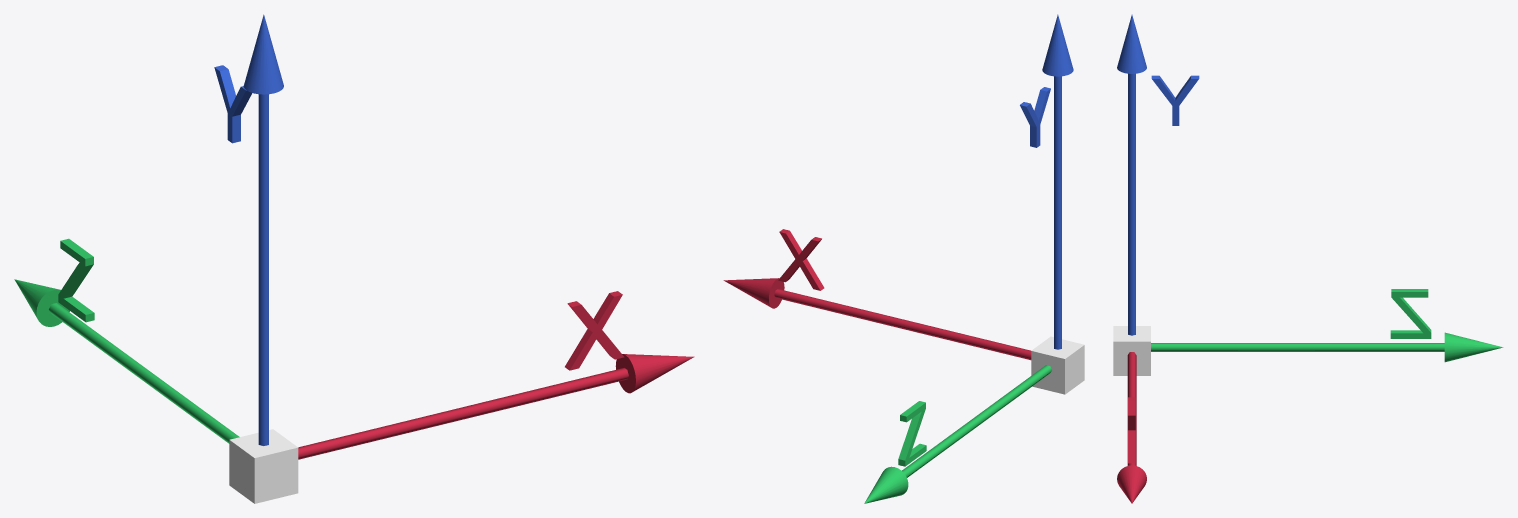
The model's file is xyz-01.FBX.
The picture shows the model from 3 angles, left to right: view 1: azimuth 30°, elevation 25°; view 2: azimuth 150°, elevation 25°; view 3: azimuth 270°, elevation 25°; orthographic projection. The views are drawn at different scales.
Parts seen in each view (by area): view 1: XYZ-01; view 2: XYZ-01; view 3: XYZ-01.
Part boxes in pixels (x1,y1,x2,y2): XYZ-01: [14, 14, 694, 503]; XYZ-01: [723, 14, 1084, 503]; XYZ-01: [1113, 14, 1503, 503].
Bounding box in the file's own units: 51.76 × 51.94 × 51.94.
